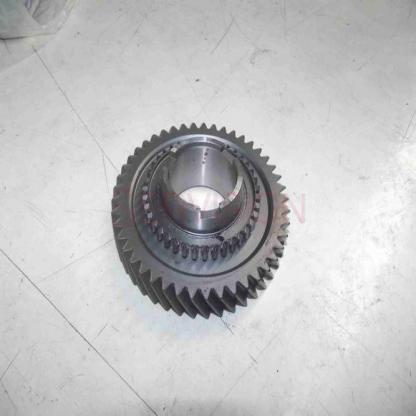FOD: (105, 120, 295, 324)
